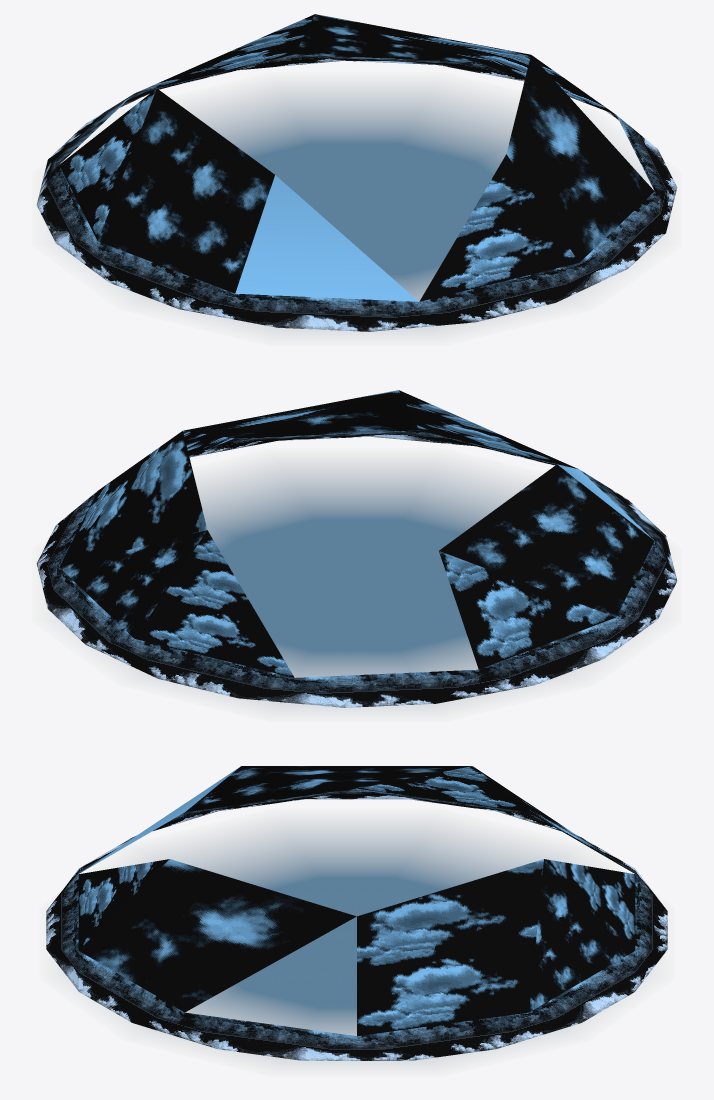
Rendered from uvmd-0369.glb.
3 renders of one model, top to bottom at view 1: azimuth 30°, elevation 25°; view 2: azimuth 150°, elevation 25°; view 3: azimuth 270°, elevation 25°, orthographic. The views are drawn at different scales.
Visible parts, largest first — view 1: uvmd-0369; view 2: uvmd-0369; view 3: uvmd-0369.
Boxes of the visible parts, bbox=[...] form: uvmd-0369: bbox=[32, 14, 681, 346]; uvmd-0369: bbox=[32, 390, 681, 722]; uvmd-0369: bbox=[39, 766, 674, 1077].
Bounding box in the file's own units: 11486 × 3004 × 12078.
6 materials, 6 textured.
